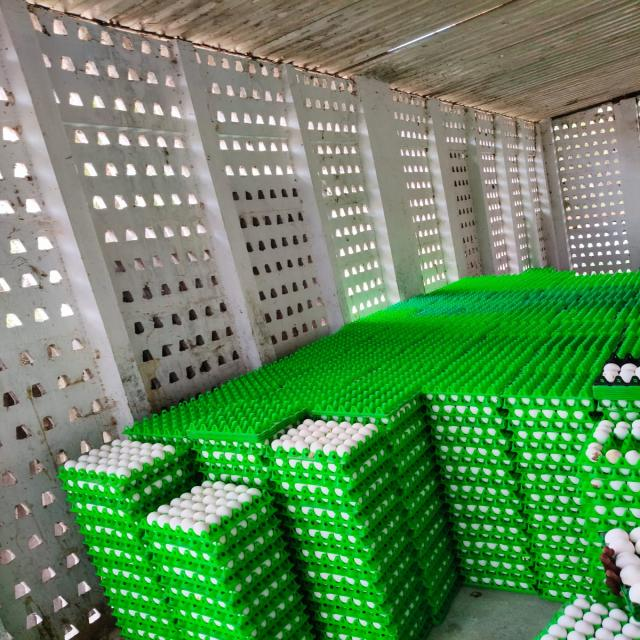egg_tray: (67, 441, 190, 638), (146, 481, 292, 621), (60, 440, 190, 563), (147, 509, 289, 606), (68, 454, 193, 563), (275, 467, 441, 548), (146, 492, 278, 586), (151, 530, 290, 618), (169, 548, 302, 638), (282, 498, 413, 586), (263, 324, 394, 412), (267, 326, 391, 418), (70, 470, 190, 564), (294, 509, 414, 596), (76, 476, 192, 563), (147, 480, 273, 560), (522, 463, 596, 599), (269, 418, 392, 497), (507, 316, 619, 401), (425, 326, 540, 404), (59, 440, 186, 506), (297, 552, 419, 620), (162, 563, 298, 623), (188, 370, 300, 441), (449, 498, 533, 592), (307, 572, 423, 640), (300, 558, 420, 620), (173, 588, 310, 640), (525, 507, 602, 599), (429, 416, 516, 495), (314, 353, 421, 417), (94, 555, 177, 637), (525, 505, 598, 598), (429, 416, 516, 494), (308, 572, 420, 632), (273, 470, 399, 523), (288, 517, 407, 572), (452, 326, 547, 394), (175, 594, 315, 640), (274, 481, 400, 532), (190, 421, 295, 482), (581, 412, 639, 519), (521, 466, 589, 557), (270, 418, 383, 472), (290, 534, 412, 584), (281, 504, 405, 552), (189, 423, 292, 480), (314, 591, 426, 640), (389, 414, 441, 519), (314, 384, 423, 434), (314, 594, 429, 640), (437, 444, 520, 506), (454, 514, 530, 581), (450, 500, 528, 564), (101, 572, 177, 637), (105, 575, 180, 640), (581, 442, 639, 526), (426, 404, 509, 461), (70, 504, 146, 566), (123, 392, 210, 446), (511, 419, 591, 477), (76, 504, 147, 569), (348, 392, 424, 452), (310, 372, 402, 421), (535, 597, 639, 640), (125, 392, 215, 441), (426, 404, 509, 457), (443, 496, 525, 549), (451, 536, 532, 589), (456, 539, 534, 592), (509, 416, 593, 465), (432, 438, 516, 487), (509, 416, 594, 464), (525, 510, 597, 566), (589, 523, 633, 614), (192, 434, 277, 480), (401, 460, 445, 548), (344, 389, 423, 438), (599, 526, 639, 619), (518, 462, 582, 520), (508, 410, 594, 453), (509, 420, 593, 464), (403, 488, 452, 563), (519, 528, 589, 579), (106, 592, 179, 640), (435, 449, 516, 492), (409, 572, 461, 638), (97, 564, 166, 613), (396, 455, 442, 528), (434, 444, 517, 483), (597, 523, 637, 598), (585, 411, 639, 466), (460, 552, 534, 592), (429, 414, 510, 450), (387, 411, 432, 474), (456, 535, 530, 573), (583, 509, 639, 559), (414, 519, 457, 583), (504, 388, 592, 419), (422, 556, 462, 624), (418, 396, 479, 439), (424, 389, 503, 422), (507, 412, 595, 441), (534, 567, 606, 601), (436, 456, 517, 486), (530, 546, 600, 580), (523, 508, 587, 545), (452, 514, 527, 545), (504, 396, 593, 422), (422, 568, 462, 625), (123, 414, 190, 448), (425, 390, 501, 419), (114, 607, 180, 640), (450, 496, 523, 525), (461, 565, 536, 593), (582, 490, 639, 526), (457, 536, 530, 564), (444, 478, 519, 505), (514, 441, 581, 470), (97, 564, 158, 594), (263, 606, 315, 640), (518, 468, 581, 496), (521, 485, 581, 514), (116, 616, 179, 640), (128, 426, 192, 449), (203, 469, 271, 490), (594, 400, 639, 429), (601, 357, 639, 385), (595, 399, 639, 422), (398, 608, 426, 638), (308, 591, 346, 612), (598, 398, 639, 412), (353, 596, 379, 617), (391, 583, 412, 608), (345, 625, 372, 640), (594, 567, 610, 592), (325, 626, 345, 637), (366, 630, 387, 640), (162, 405, 181, 416), (570, 434, 587, 444), (525, 499, 537, 512), (485, 308, 496, 320), (622, 523, 634, 530), (539, 369, 547, 379), (458, 326, 468, 334), (124, 571, 134, 579), (627, 598, 633, 611), (133, 566, 142, 574), (274, 551, 283, 559), (522, 455, 539, 459), (269, 590, 274, 603), (362, 386, 367, 398), (134, 567, 143, 573), (204, 636, 217, 640), (175, 589, 181, 597), (195, 634, 202, 640), (626, 573, 632, 580), (570, 467, 575, 473), (569, 429, 575, 434), (521, 318, 527, 323), (123, 429, 127, 436), (276, 462, 283, 466), (114, 562, 121, 566), (532, 317, 539, 321), (246, 494, 251, 499), (297, 388, 303, 392), (553, 424, 557, 430), (404, 340, 410, 344), (350, 593, 356, 597), (318, 546, 322, 552), (622, 426, 628, 430), (388, 362, 392, 367), (323, 411, 329, 414), (470, 476, 476, 479), (290, 412, 293, 418), (172, 636, 176, 640), (101, 575, 103, 583), (356, 381, 359, 386), (294, 551, 297, 556), (583, 461, 588, 464), (334, 416, 339, 419), (402, 387, 405, 392), (601, 567, 603, 574), (489, 320, 492, 324), (607, 414, 610, 418), (412, 344, 414, 350), (186, 510, 192, 512), (626, 569, 630, 572), (363, 391, 366, 395), (383, 330, 387, 333), (488, 463, 492, 466), (412, 390, 416, 393), (310, 404, 312, 409), (334, 416, 337, 419), (194, 598, 197, 601), (221, 509, 224, 512), (481, 507, 484, 510), (489, 320, 492, 323), (278, 598, 282, 600), (238, 494, 242, 496), (167, 480, 171, 482), (577, 542, 579, 546), (548, 385, 552, 387), (156, 458, 159, 460), (354, 402, 357, 404), (281, 431, 284, 433), (314, 616, 316, 619), (72, 507, 74, 510), (283, 558, 285, 561), (260, 514, 263, 516), (290, 465, 296, 466), (365, 562, 368, 564), (452, 430, 454, 432), (257, 562, 259, 564), (249, 489, 251, 491), (611, 567, 613, 569), (486, 318, 488, 320), (300, 412, 302, 414), (187, 513, 189, 515), (202, 510, 204, 512), (422, 598, 423, 602), (323, 412, 327, 413), (447, 556, 451, 557), (274, 583, 275, 586), (113, 569, 116, 570), (432, 513, 433, 516), (390, 369, 393, 370), (114, 612, 115, 614), (272, 587, 274, 588), (282, 380, 283, 382), (183, 494, 185, 495), (383, 418, 385, 419), (611, 596, 612, 598), (487, 582, 488, 584), (467, 580, 468, 582), (636, 566, 637, 568), (313, 406, 314, 408), (390, 338, 392, 339), (293, 587, 295, 588), (434, 523, 435, 524), (487, 498, 488, 499), (227, 485, 228, 486), (447, 480, 448, 481), (465, 452, 466, 453), (551, 437, 552, 438), (389, 554, 390, 555), (396, 627, 397, 628), (620, 327, 621, 328), (325, 556, 326, 557), (316, 538, 317, 539), (432, 416, 433, 417), (349, 377, 350, 378), (156, 468, 157, 468), (241, 470, 244, 470), (143, 636, 144, 636), (492, 314, 492, 314), (567, 549, 567, 550), (390, 418, 390, 419), (381, 363, 381, 364), (217, 605, 217, 606), (195, 512, 198, 512), (445, 565, 445, 565), (627, 594, 627, 594), (292, 532, 292, 533), (72, 508, 73, 508), (99, 570, 99, 572), (350, 601, 350, 601), (621, 432, 621, 434), (598, 414, 598, 414), (241, 636, 244, 636), (183, 614, 183, 615), (403, 394, 403, 394)
